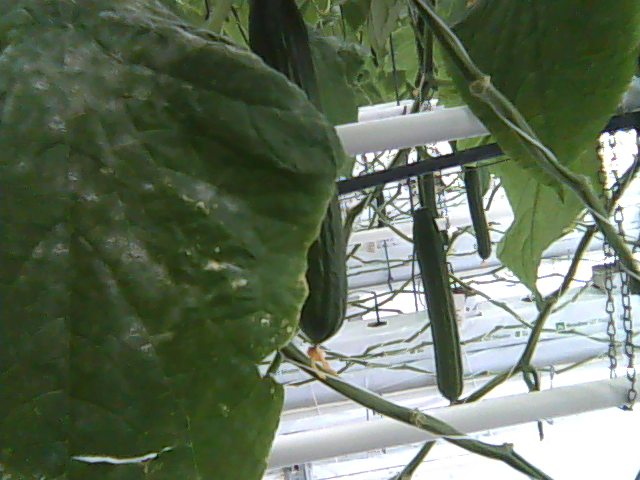concombre: (245, 1, 349, 380)
